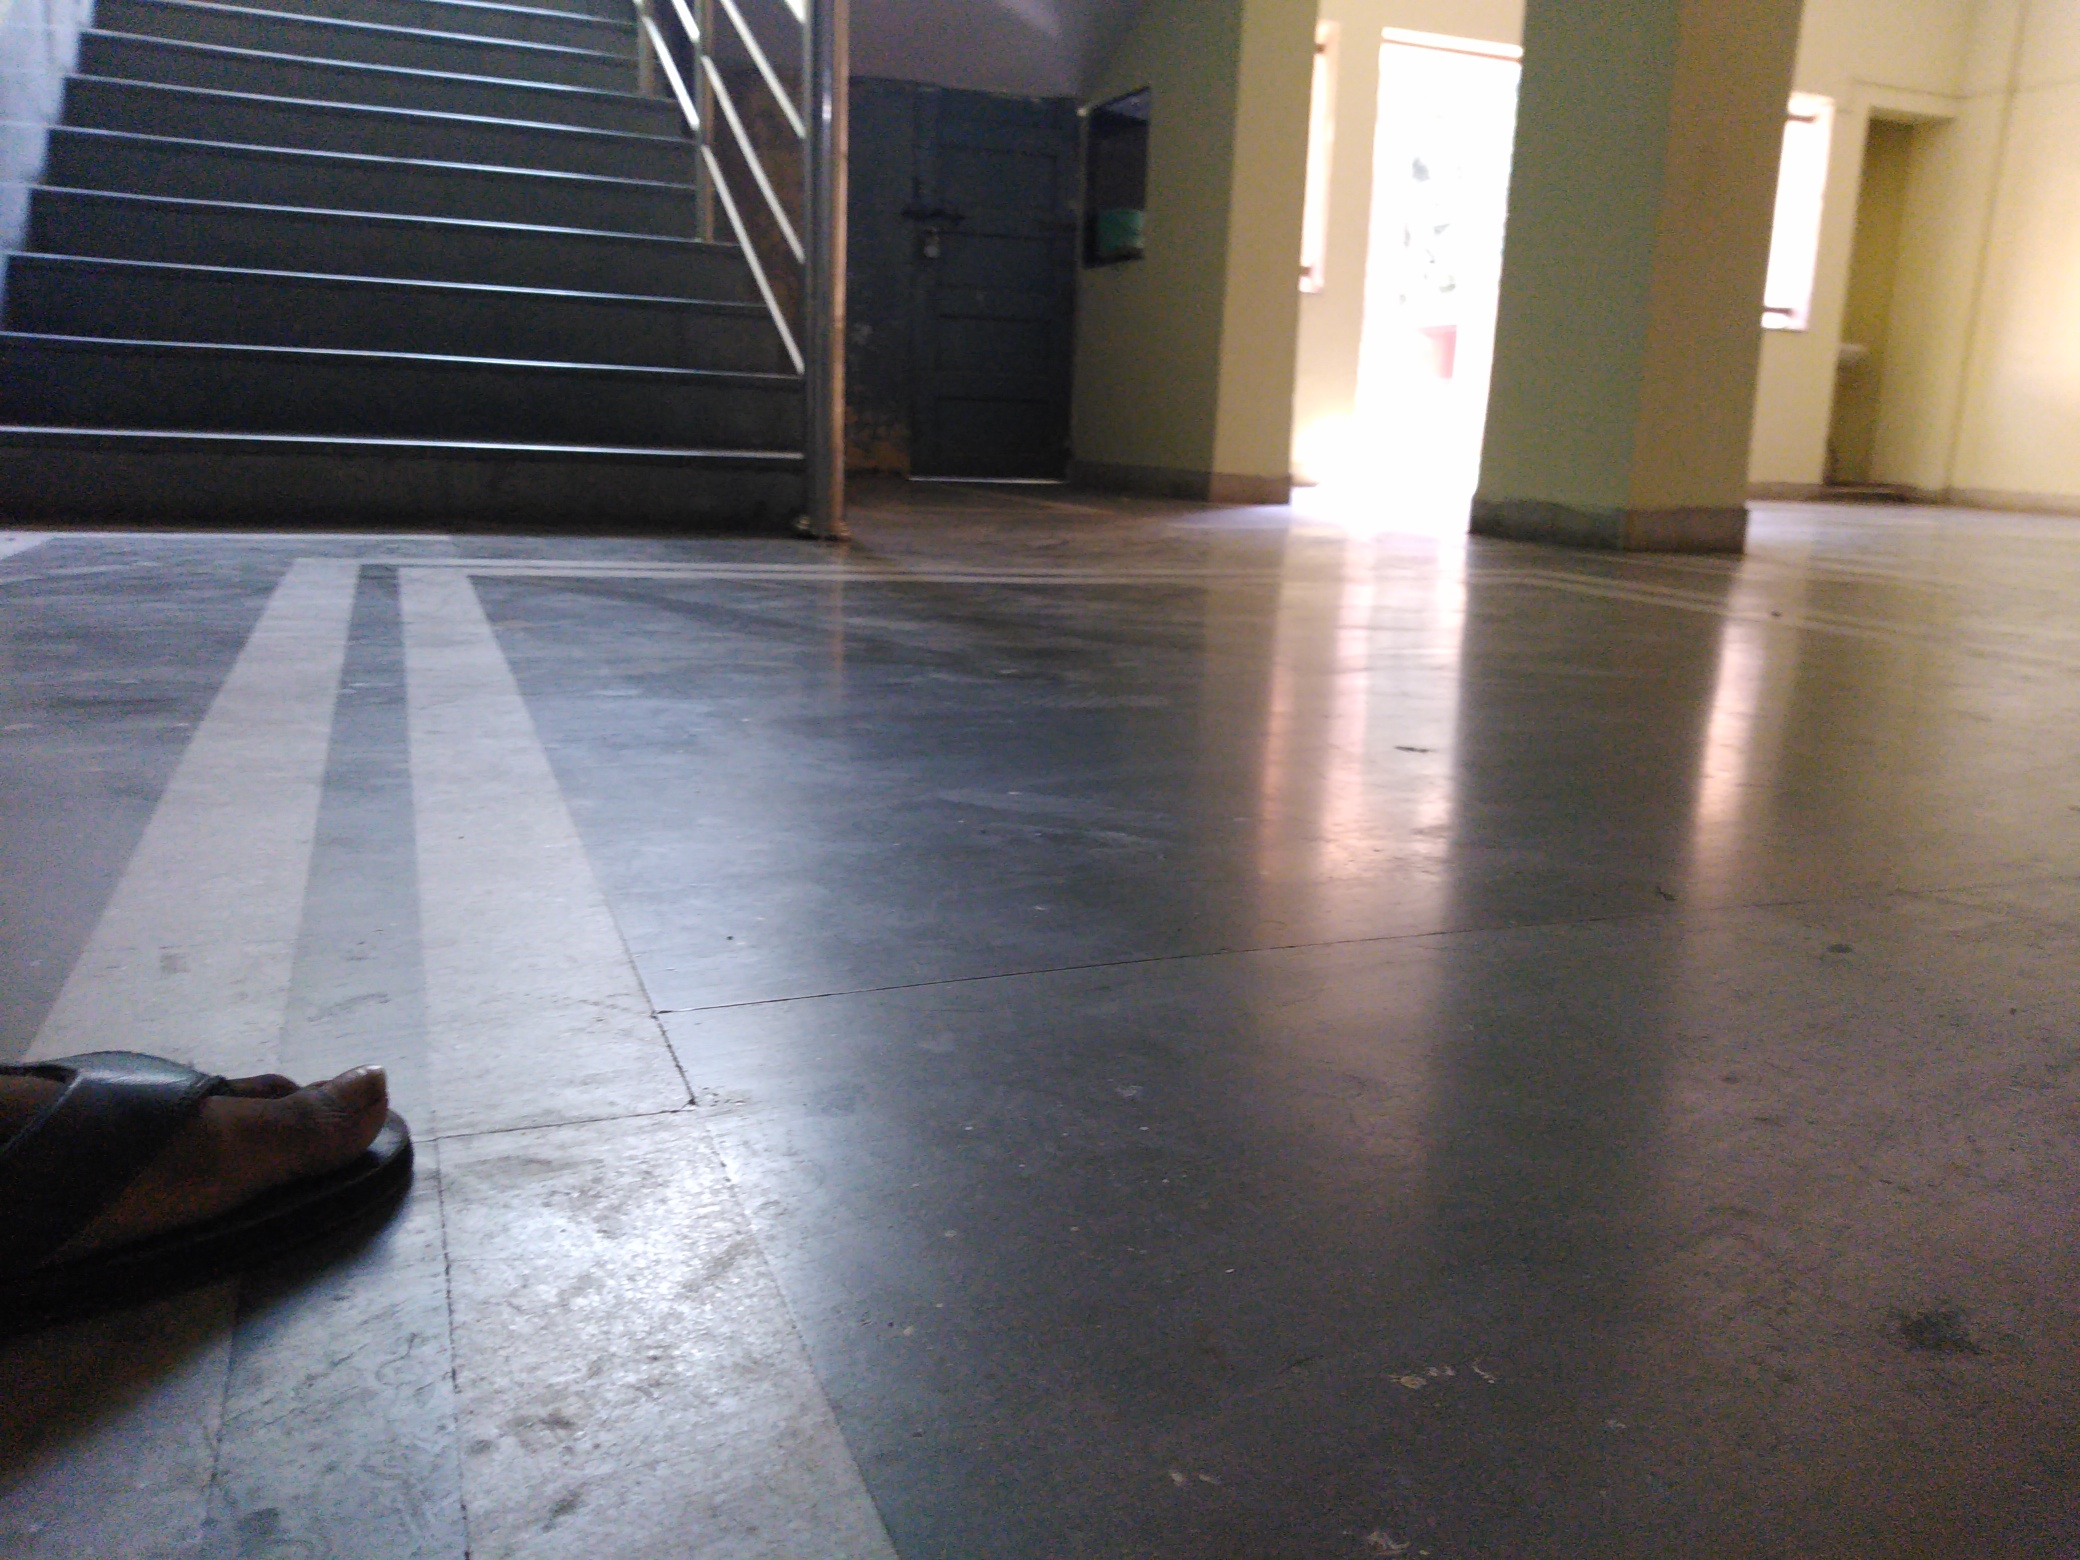stairs_up: (15, 2, 816, 551)
